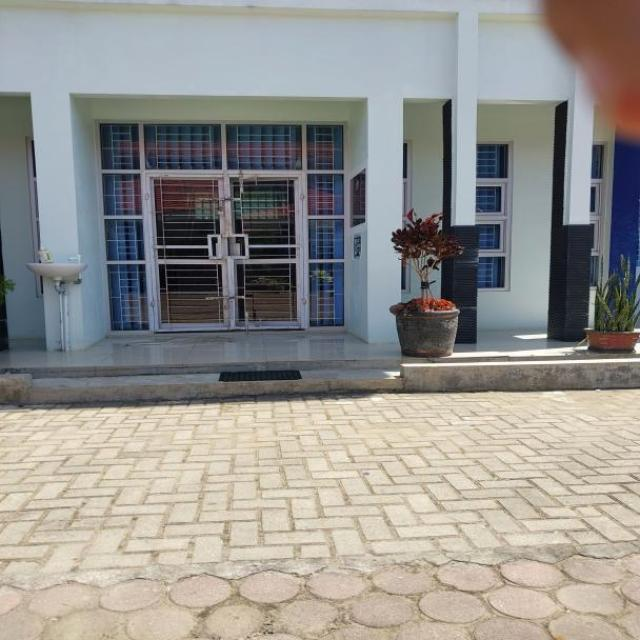Door ahead at: (153, 171, 306, 326)
plant ahead at: (390, 202, 469, 361)
